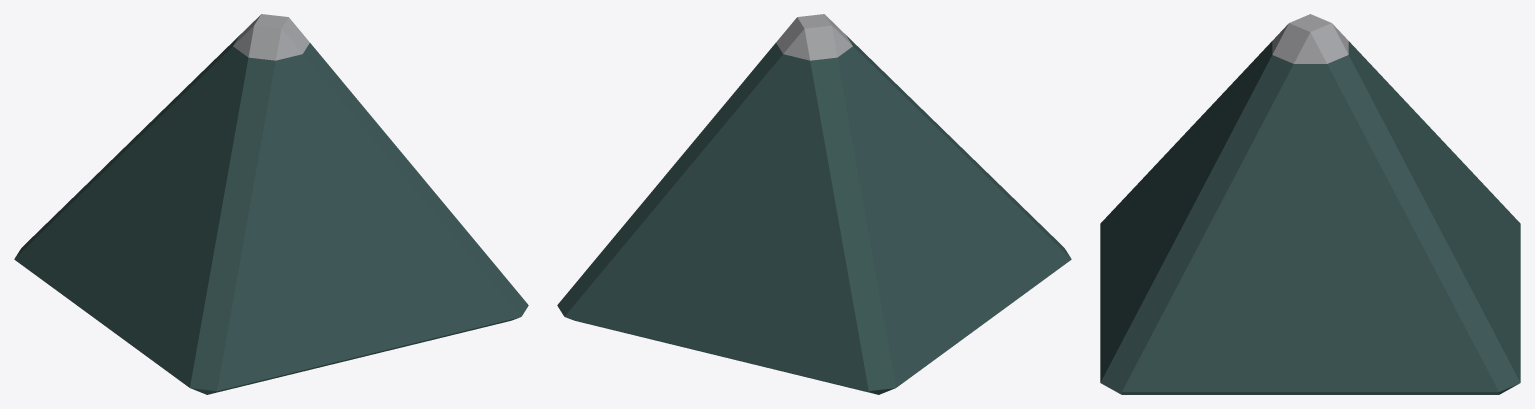
Rendered from Roof_Point_Green_01.obj.
3 renders of one model, left to right at view 1: azimuth 30°, elevation 25°; view 2: azimuth 150°, elevation 25°; view 3: azimuth 270°, elevation 25°, orthographic. The views are drawn at different scales.
Parts seen in each view (by area): view 1: Mesh1_Roof_Point_Green_Model.001; view 2: Mesh1_Roof_Point_Green_Model.001; view 3: Mesh1_Roof_Point_Green_Model.001.
Part boxes in pixels (box(x1,y1,x2,y2)): Mesh1_Roof_Point_Green_Model.001: box(14, 14, 528, 394); Mesh1_Roof_Point_Green_Model.001: box(557, 14, 1071, 394); Mesh1_Roof_Point_Green_Model.001: box(1100, 14, 1520, 394).
Size of the model in its own units: 3.34 by 2.56 by 3.34.
